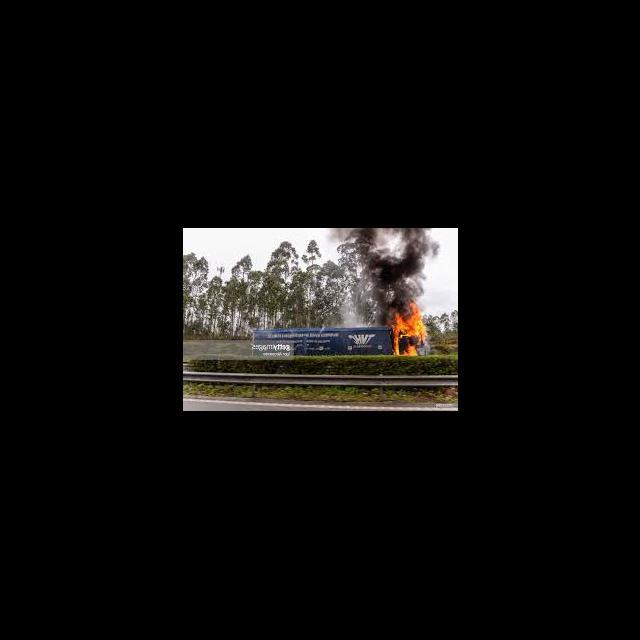Fire: (390, 300, 430, 356)
Smoke: (350, 228, 443, 296), (340, 294, 366, 328)
